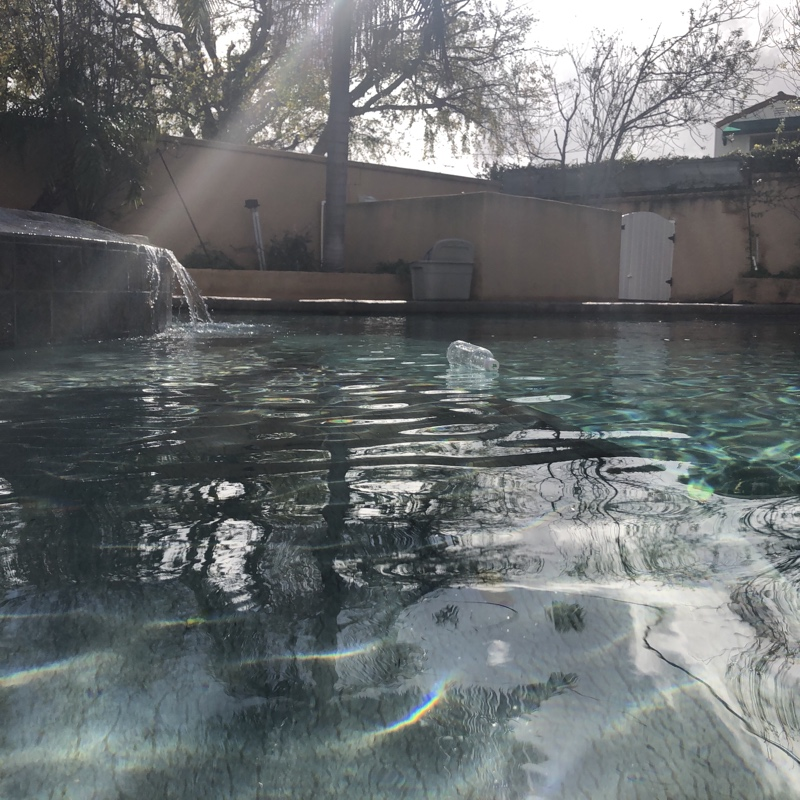Plastic Bottle: (444, 336, 502, 380)
